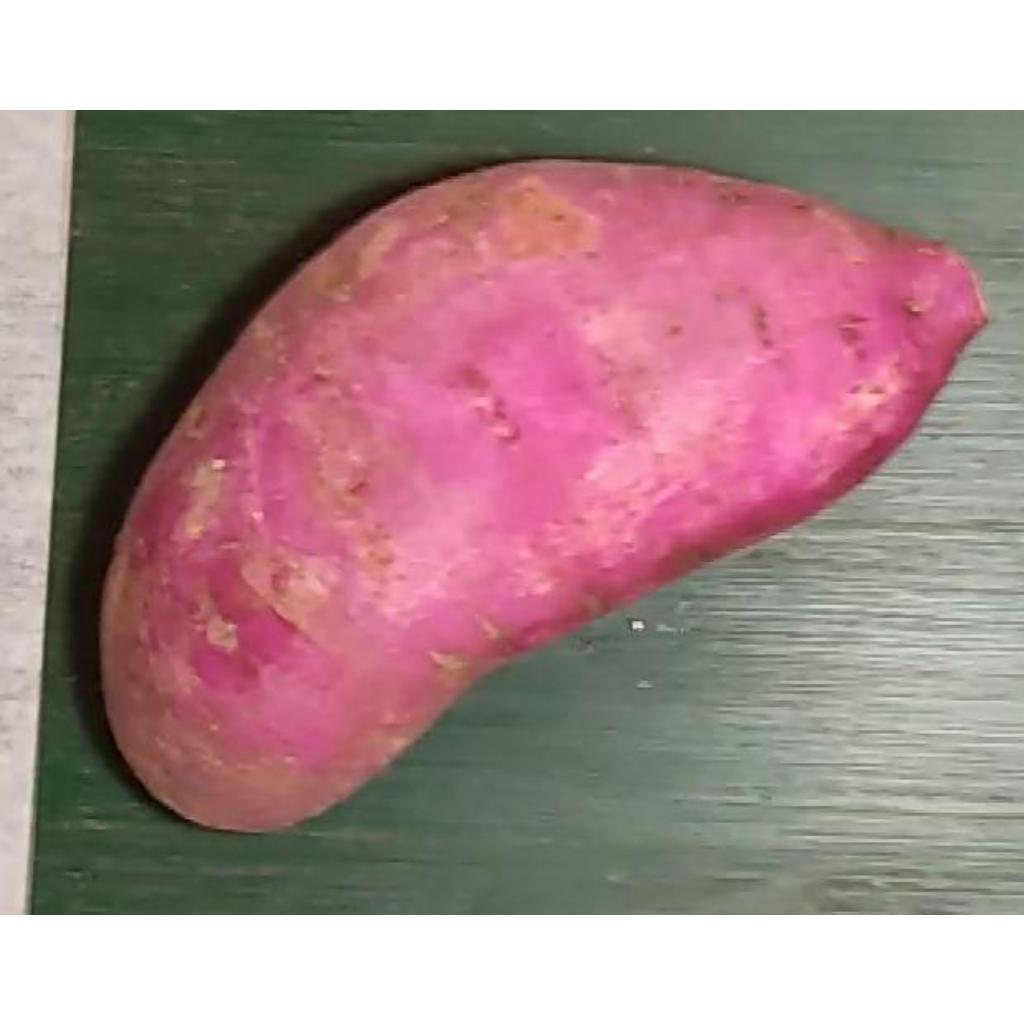Sweet Potato: (99, 159, 991, 837)
